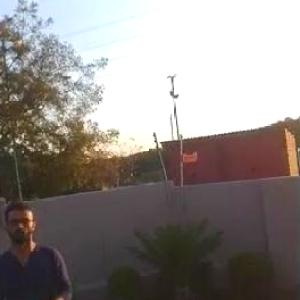follow: (1, 192, 82, 299)
